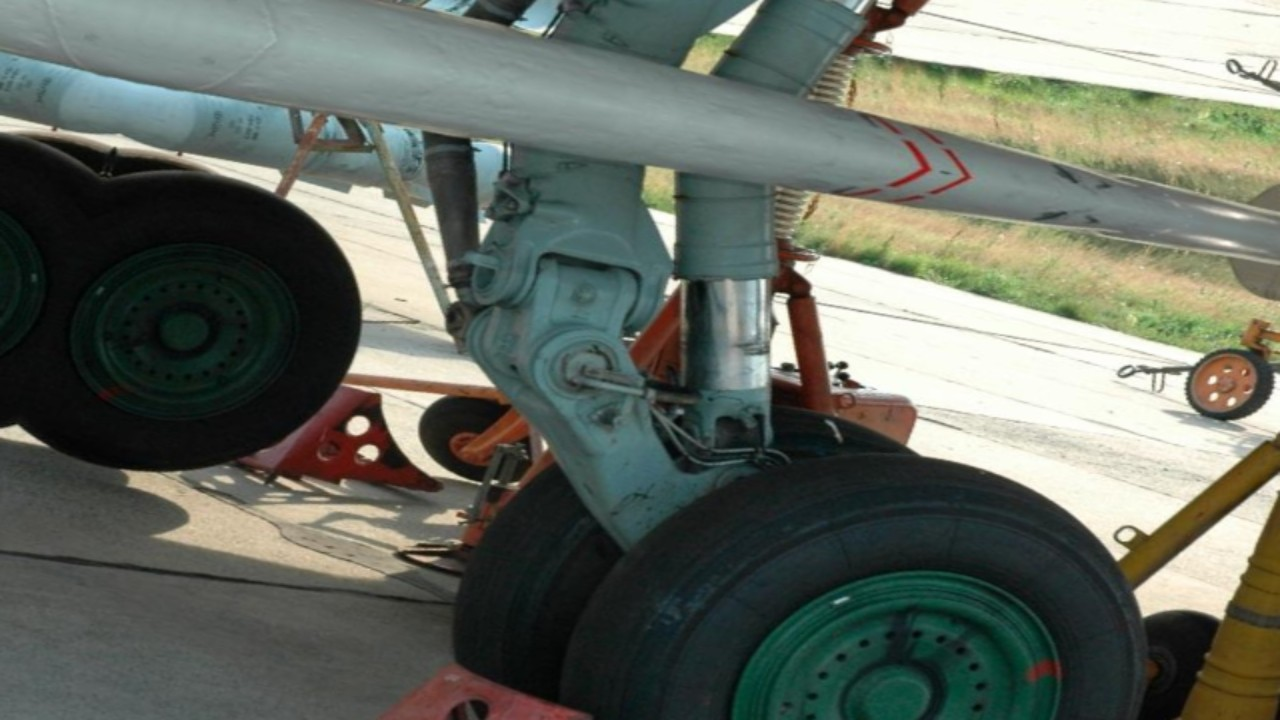chock: (242, 634, 727, 720)
wheel: (498, 400, 1217, 720), (8, 147, 406, 507), (0, 89, 115, 450)
